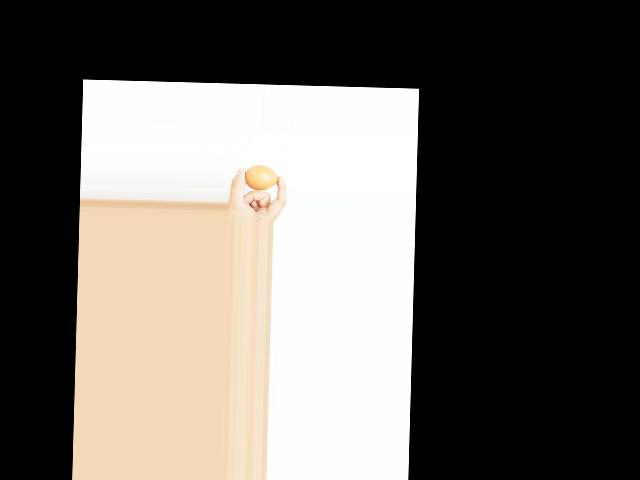egg: (244, 163, 278, 191)
